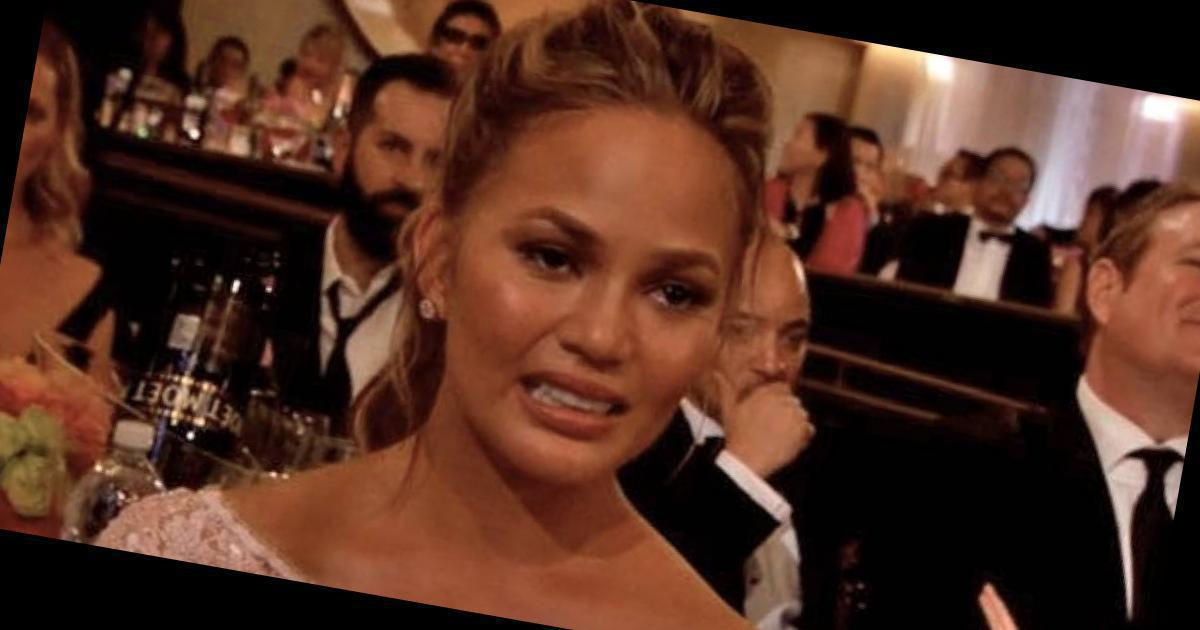Drunk: (485, 135, 722, 478)
